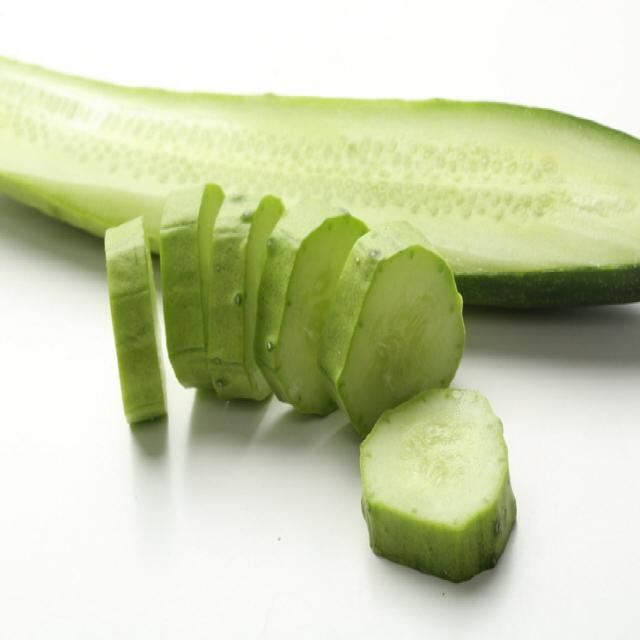cucumber: (0, 33, 640, 339), (246, 185, 489, 484), (339, 376, 551, 582), (71, 202, 194, 458), (162, 136, 260, 428)
